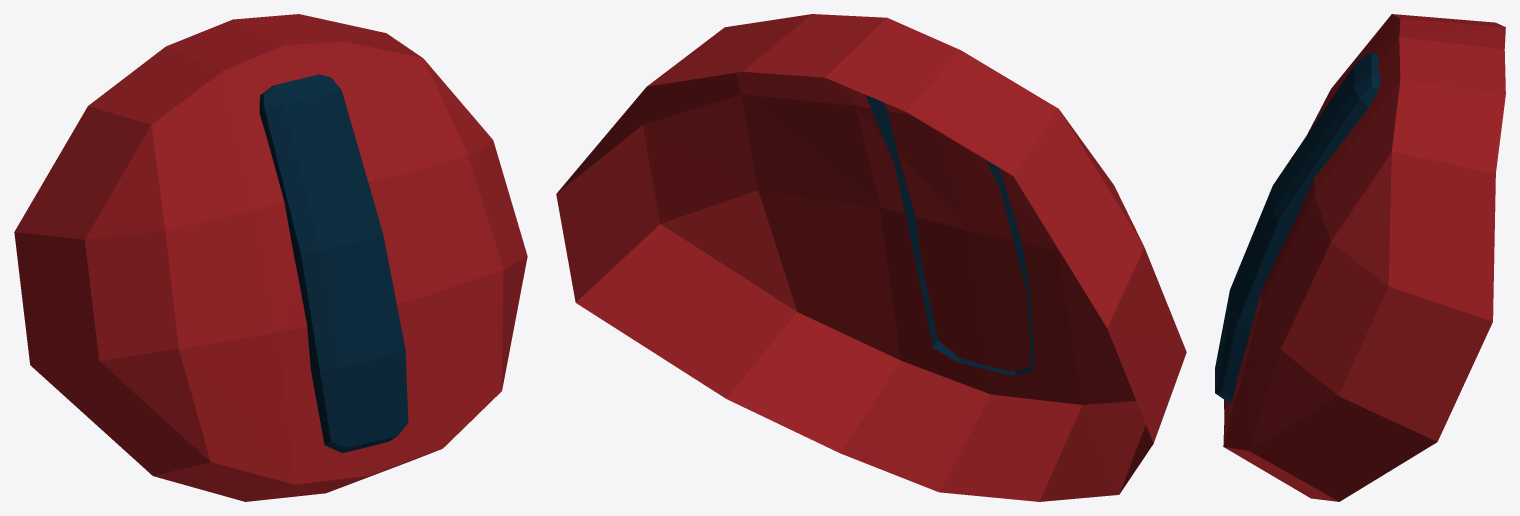
Rendered from LightAnimtor.fbx.
3 views of the same model, side by side, from view 1: azimuth 30°, elevation 25°; view 2: azimuth 150°, elevation 25°; view 3: azimuth 270°, elevation 25° (orthographic). The views are drawn at different scales.
Parts seen in each view (by area): view 1: Eye_Red; view 2: Eye_Red; view 3: Eye_Red.
Part boxes in pixels (box(x1,y1,x2,y2)): Eye_Red: box(14, 14, 527, 501); Eye_Red: box(556, 14, 1186, 501); Eye_Red: box(1215, 14, 1505, 501).
Size of the model in its own units: 5.47 by 4.63 by 2.83.
